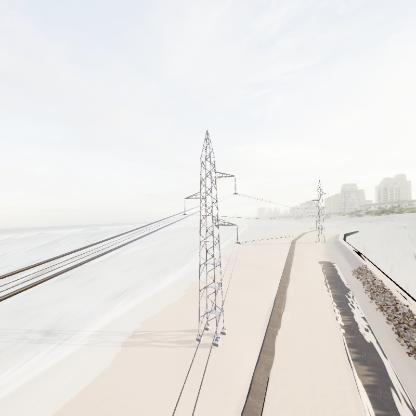tower: (176, 130, 242, 353)
